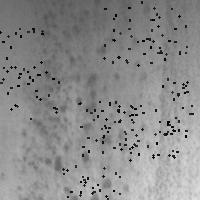pitted_surface: (25, 2, 143, 199), (152, 1, 195, 199), (128, 1, 186, 58), (118, 105, 178, 159), (78, 101, 138, 154), (103, 8, 158, 64), (2, 66, 58, 118), (0, 28, 45, 87), (162, 78, 200, 136), (62, 165, 119, 200)
